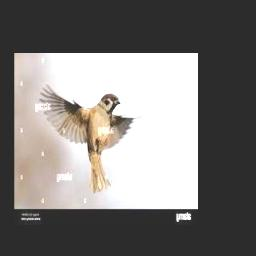Sparrow: (40, 84, 143, 193)
